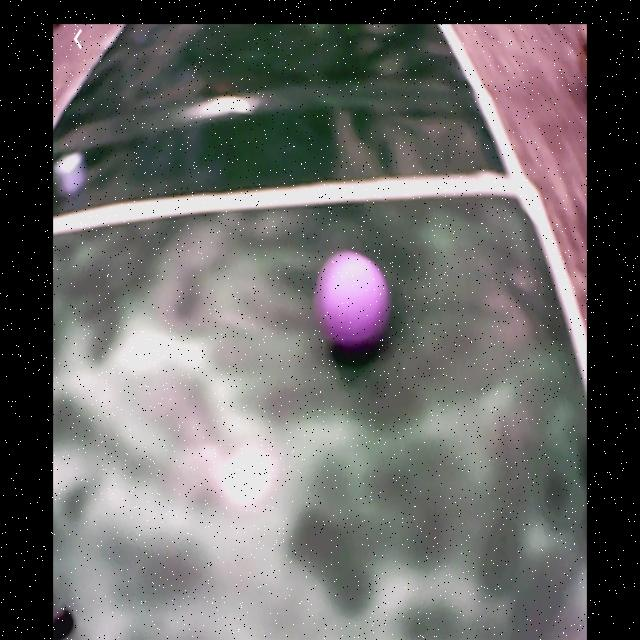ball: (318, 251, 387, 347)
